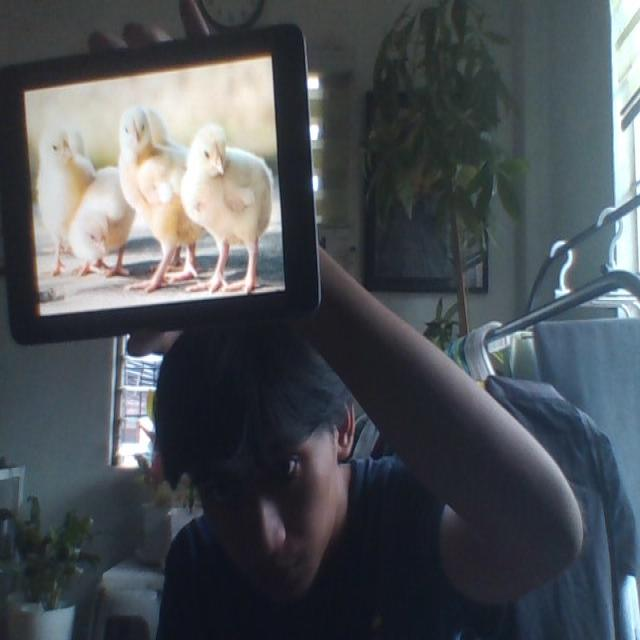Healthy: (180, 119, 274, 292), (116, 104, 192, 285), (36, 120, 88, 222)
Sick: (63, 165, 134, 278)
